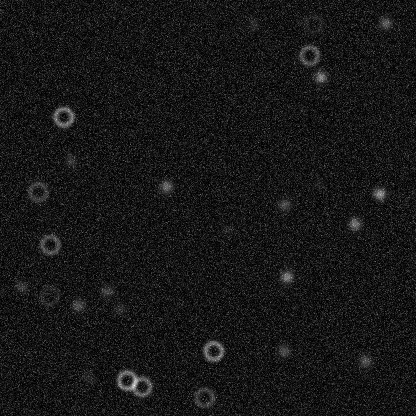Ring: (129, 374, 153, 398), (51, 104, 75, 128), (201, 338, 225, 362), (37, 283, 61, 307), (38, 232, 62, 256), (114, 368, 138, 392), (301, 11, 325, 35), (25, 179, 49, 203), (297, 43, 321, 67), (192, 385, 216, 409)
Spot: (219, 222, 235, 238), (80, 369, 96, 385), (245, 15, 261, 31), (357, 353, 373, 369), (13, 278, 29, 294), (158, 178, 174, 194), (310, 175, 326, 191), (312, 69, 328, 85), (111, 300, 127, 316), (346, 215, 362, 231), (275, 343, 291, 359), (377, 15, 393, 31), (69, 297, 85, 313), (278, 268, 294, 284), (276, 196, 292, 212), (62, 152, 78, 168), (371, 185, 387, 201), (98, 283, 114, 299)
